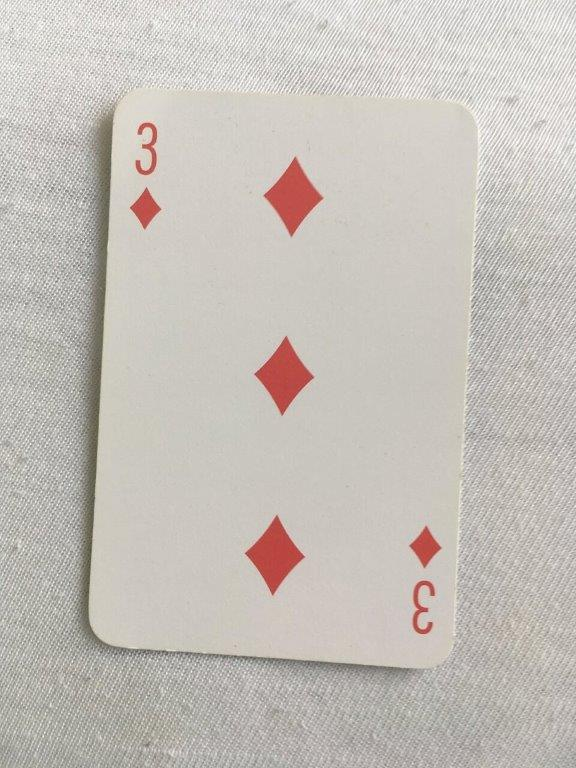3D: (85, 84, 483, 673)
